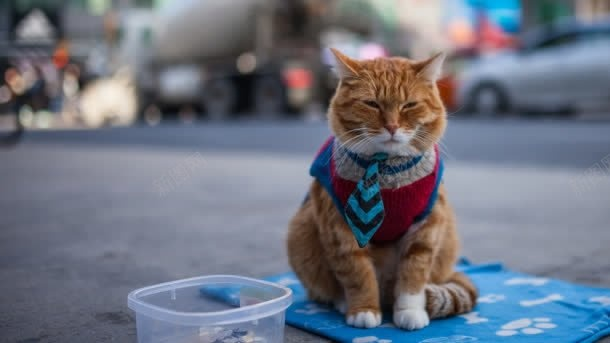cat: (286, 47, 476, 329)
